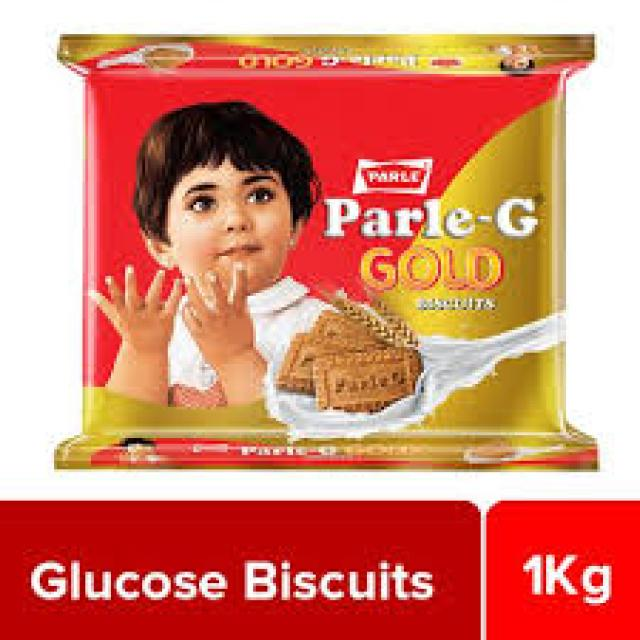parle-g: (62, 27, 596, 472)
